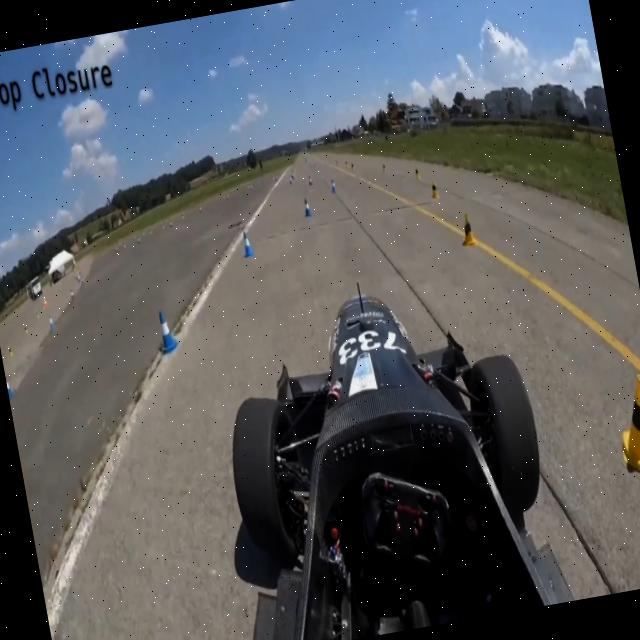blue_cone: (154, 307, 180, 355), (240, 230, 254, 258), (302, 196, 312, 218)
yellow_cone: (610, 371, 640, 481), (457, 210, 477, 248)
